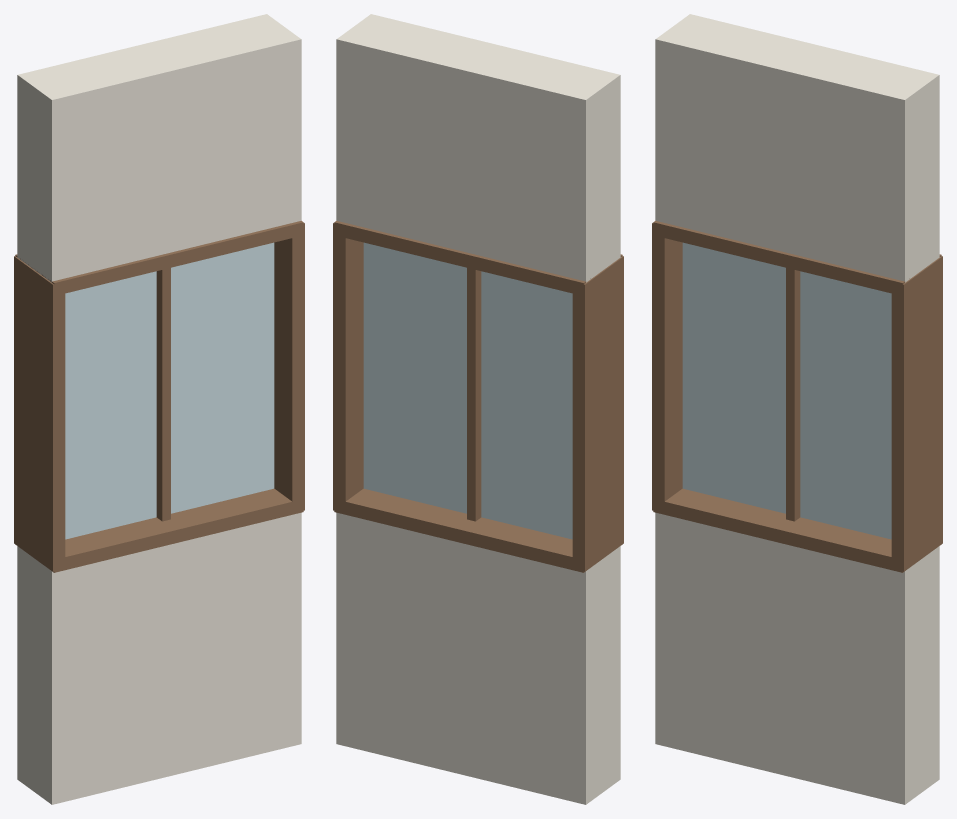
File: window.glb
3 views of the same model, side by side, from view 1: azimuth 30°, elevation 25°; view 2: azimuth 150°, elevation 25°; view 3: azimuth 330°, elevation 25° (orthographic).
Parts seen in each view (by area): view 1: window; view 2: window; view 3: window.
Boxes of the visible parts, box(x1,y1,x2,y2) form: window: box(14, 14, 304, 804); window: box(333, 14, 623, 804); window: box(652, 14, 942, 804).
Size of the model in its own units: 1.01 by 2.7 by 0.27.
